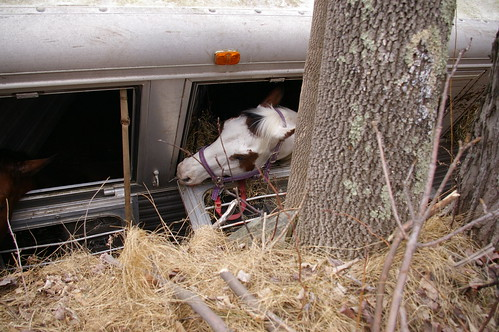animal: (185, 100, 315, 193)
tree: (259, 1, 485, 302)
